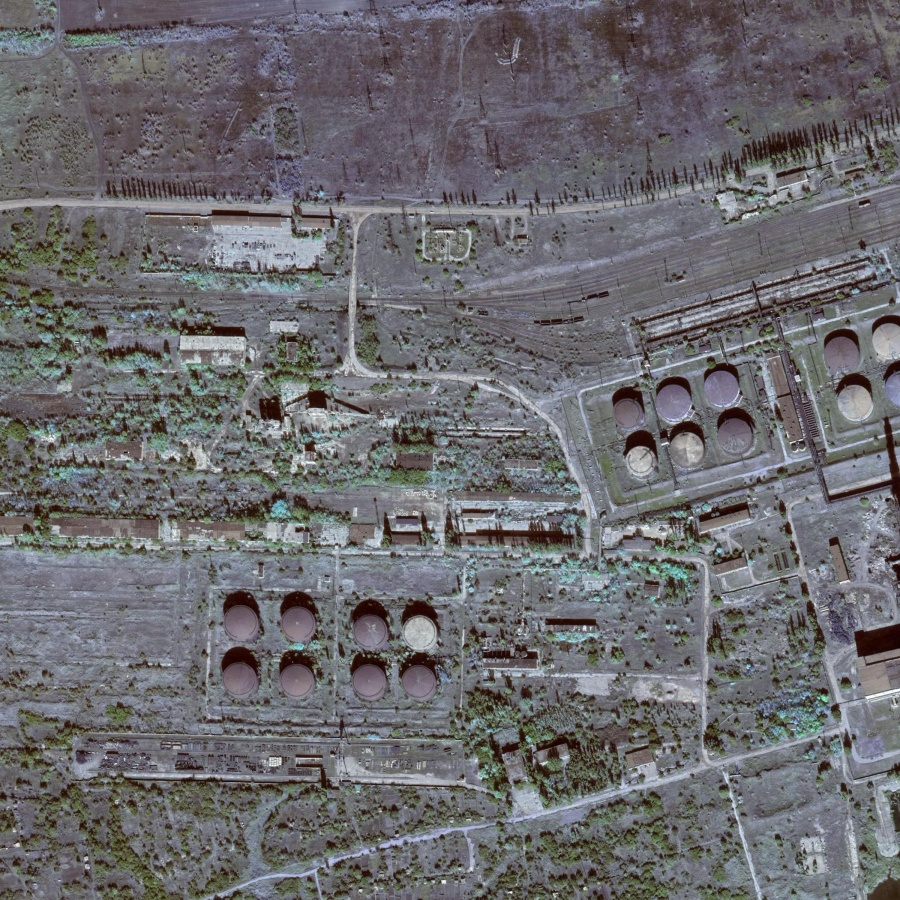PowerPlant: (188, 551, 458, 729), (574, 340, 782, 516)
